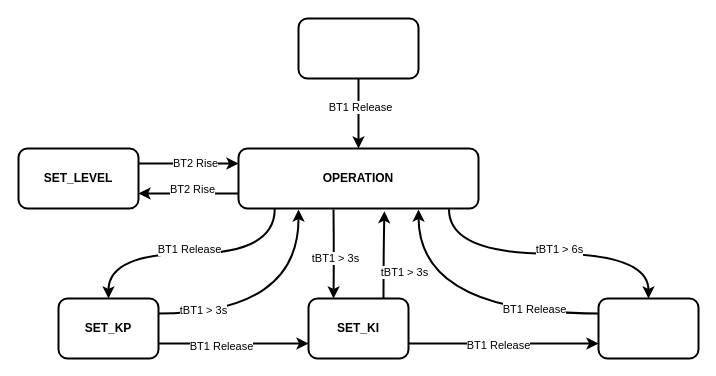
Image size: 716x376. Some labels were removed from this diagram. The centre of each missing label's shape, as x and y in pixels:
"INIT" goes at [358,48].
"SET_KD" goes at [648,328].
